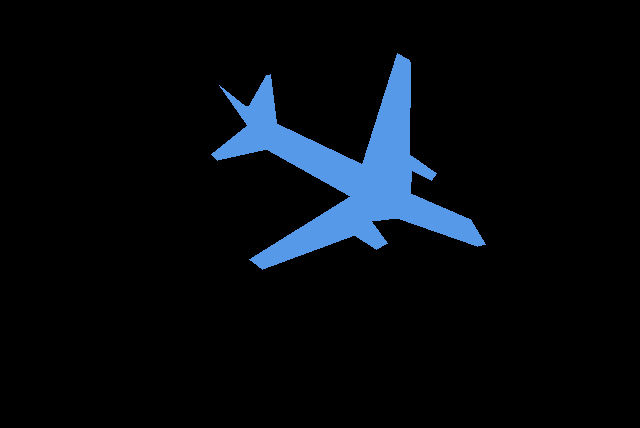Airplane: (211, 53, 485, 270)
